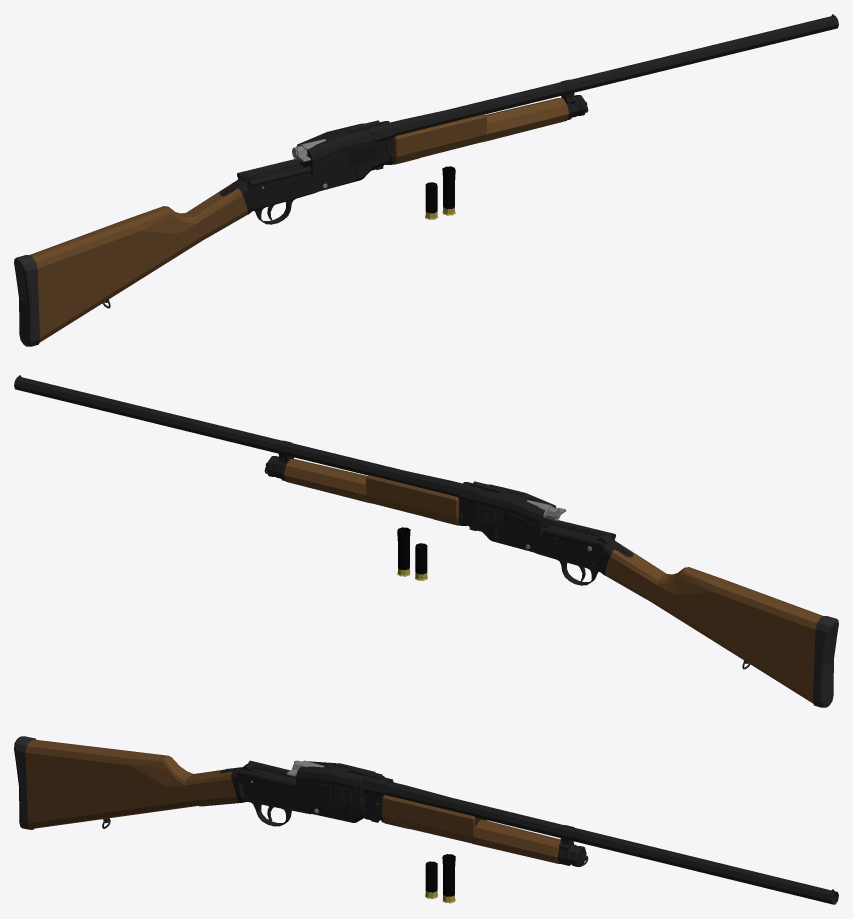
Rendered from low-poly_sjogren_inertia.glb.
3 renders of one model, top to bottom at view 1: azimuth 30°, elevation 25°; view 2: azimuth 150°, elevation 25°; view 3: azimuth 330°, elevation 25°, orthographic.
Parts seen in each view (by area): view 1: sjogren stock (wood)_7, sjogren barrel_0, sjogren receiver_2, sjogren handguard (wood)_8, sjogren bolt carrier_6; view 2: sjogren stock (wood)_7, sjogren barrel_0, sjogren receiver_2, sjogren handguard (wood)_8, sjogren bolt carrier_6; view 3: sjogren stock (wood)_7, sjogren barrel_0, sjogren handguard (wood)_8, sjogren receiver_2, sjogren bolt carrier_6, 1270n1_10, 12x70 n1_9, sjogren mag 4rnd 1270_1.
Part boxes in pixels (x1,y1,x2,y2): sjogren stock (wood)_7: (14, 184, 247, 346); sjogren barrel_0: (380, 14, 838, 164); sjogren receiver_2: (216, 120, 386, 232); sjogren handguard (wood)_8: (393, 98, 569, 164); sjogren bolt carrier_6: (292, 123, 376, 175); sjogren stock (wood)_7: (605, 545, 838, 707); sjogren barrel_0: (14, 375, 472, 525); sjogren receiver_2: (466, 481, 636, 593); sjogren handguard (wood)_8: (283, 459, 459, 525); sjogren bolt carrier_6: (476, 484, 566, 536); sjogren stock (wood)_7: (14, 736, 238, 829); sjogren barrel_0: (375, 777, 838, 904); sjogren handguard (wood)_8: (382, 795, 560, 863); sjogren receiver_2: (199, 760, 384, 826); sjogren bolt carrier_6: (287, 760, 375, 807); 1270n1_10: (442, 854, 455, 903); 12x70 n1_9: (425, 861, 437, 898); sjogren mag 4rnd 1270_1: (475, 822, 588, 866).
Bounding box in the file's own units: 13.7 × 2.2 × 0.4973.
